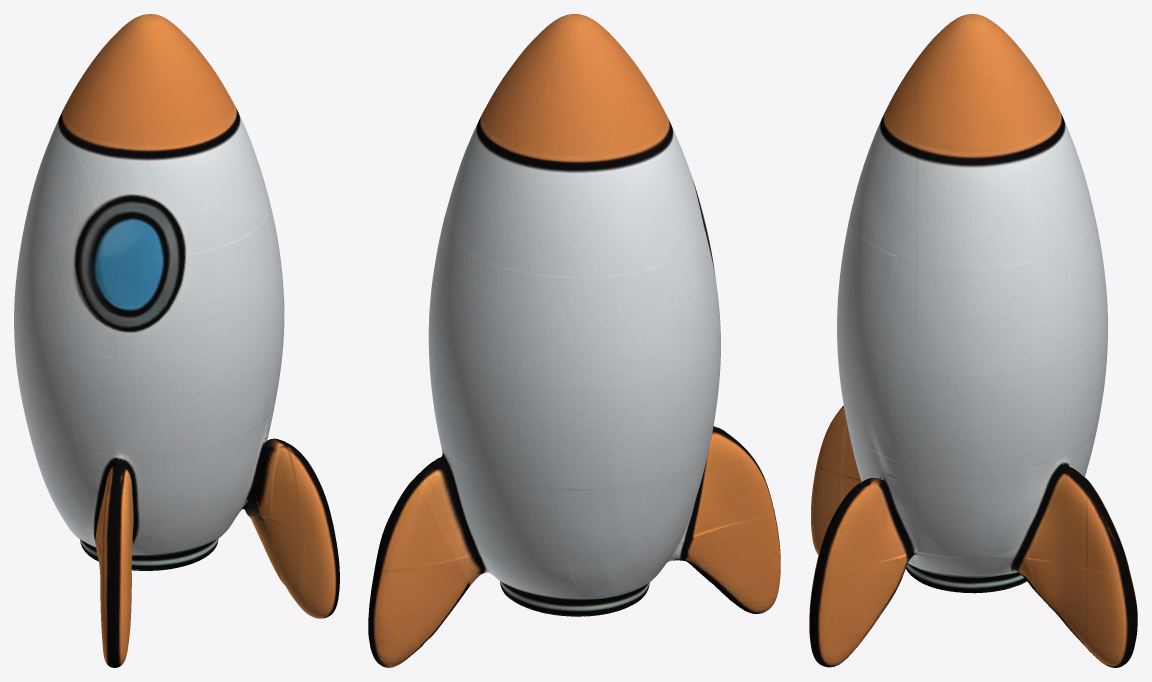
Rendered from hunyuan_rocket_textured.glb.
The picture shows the model from 3 angles, left to right: view 1: azimuth 30°, elevation 25°; view 2: azimuth 150°, elevation 25°; view 3: azimuth 270°, elevation 25°; orthographic projection. The views are drawn at different scales.
Parts seen in each view (by area): view 1: tmp5x0z21sy.ply; view 2: tmp5x0z21sy.ply; view 3: tmp5x0z21sy.ply.
Part boxes in pixels (<box>): tmp5x0z21sy.ply: <box>14,14,339,667</box>; tmp5x0z21sy.ply: <box>368,14,780,667</box>; tmp5x0z21sy.ply: <box>809,14,1137,667</box>.
Bounding box in the file's own units: 0.8638 × 2 × 0.9963.
Materials: 1 (1 with a texture image).
